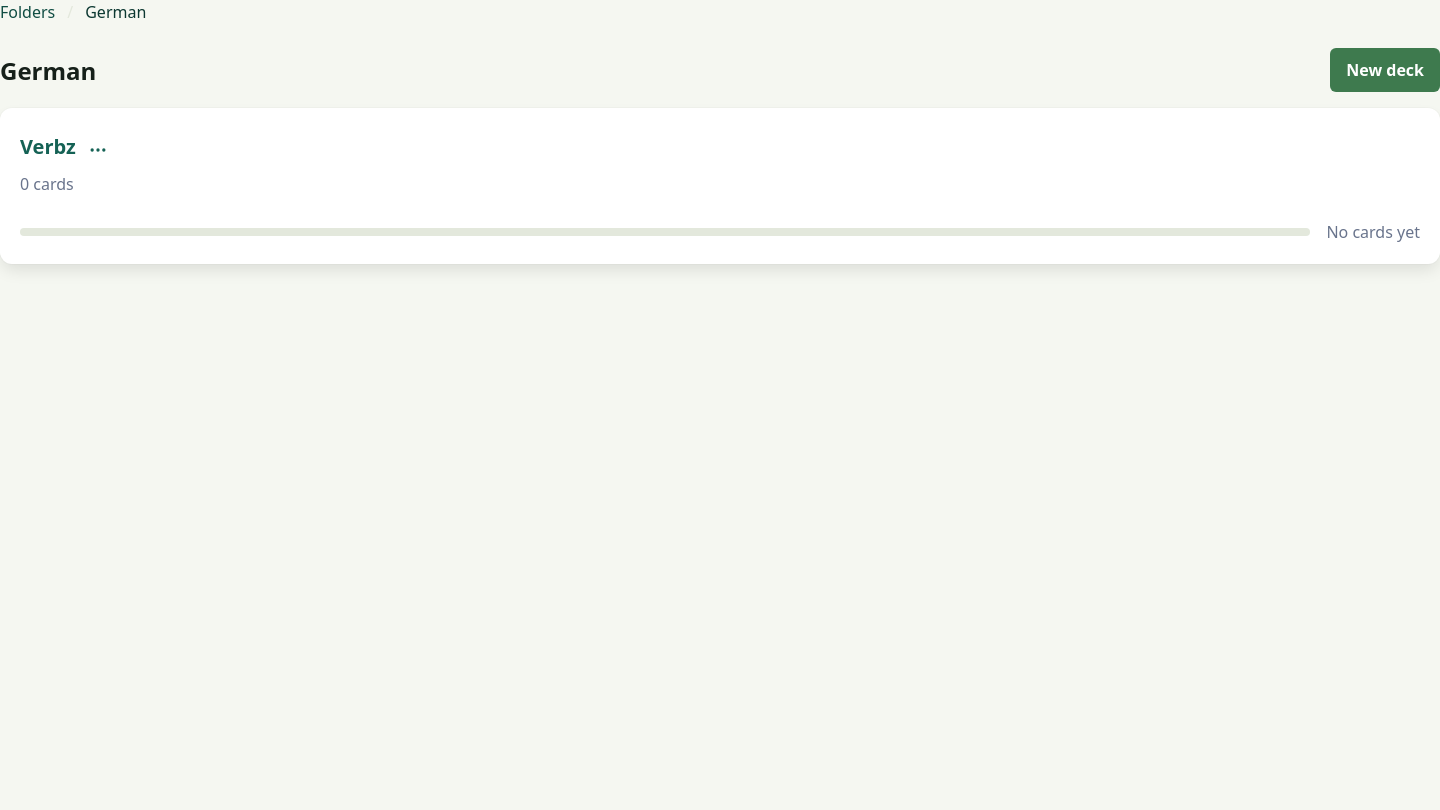
FolderView › renames a deck through the rename dialog
The width and height of the screenshot is (1440, 810).
Click the button with test id "deck-menu". click: (98, 150)
box: 76,128 -> 120,172
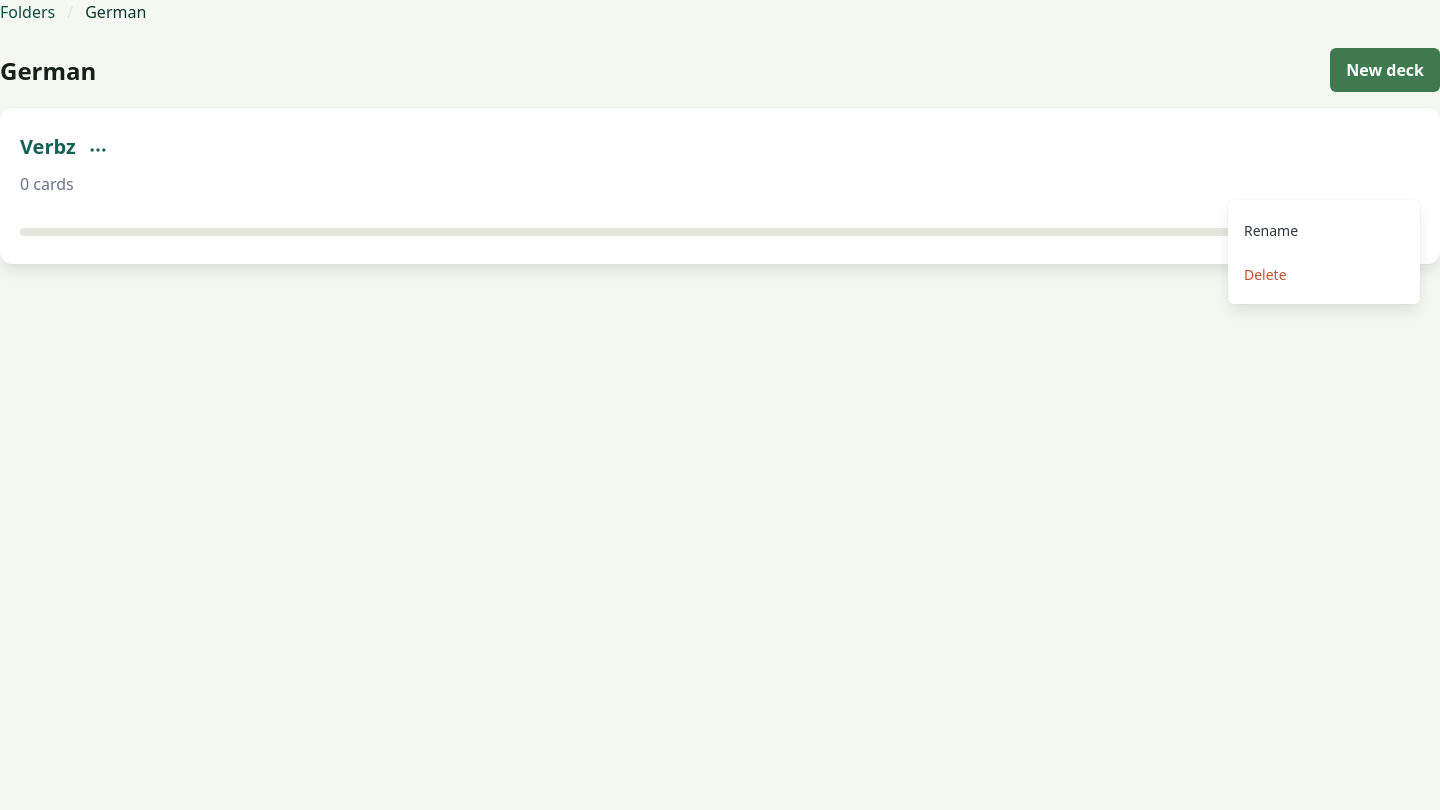
Click the button with test id "deck-rename". click: (1324, 230)
box: 1228,208 -> 1420,252
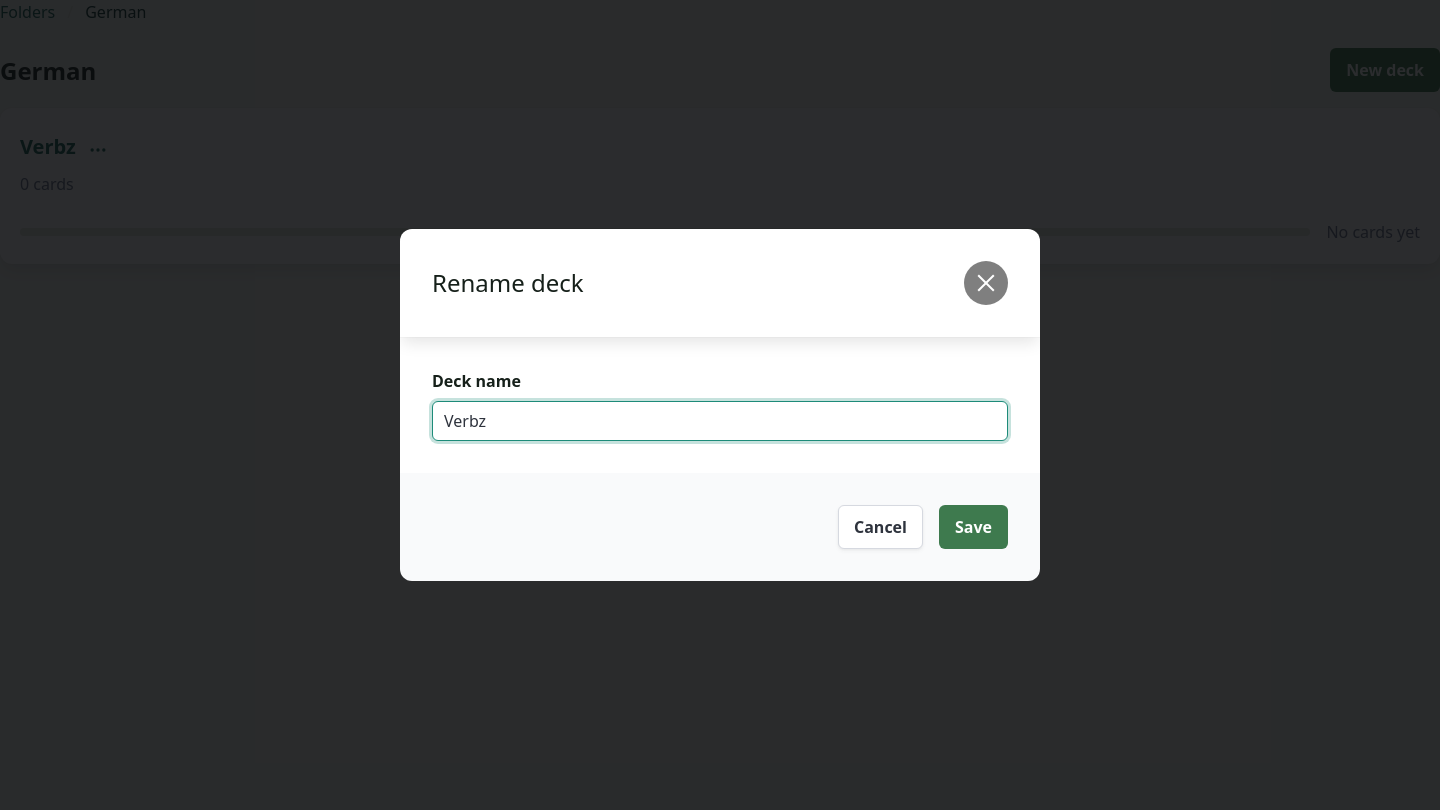
Replace the text in the field with test id "name-input" with "Verbs". click: (720, 421)
box: 432,401 -> 1008,441
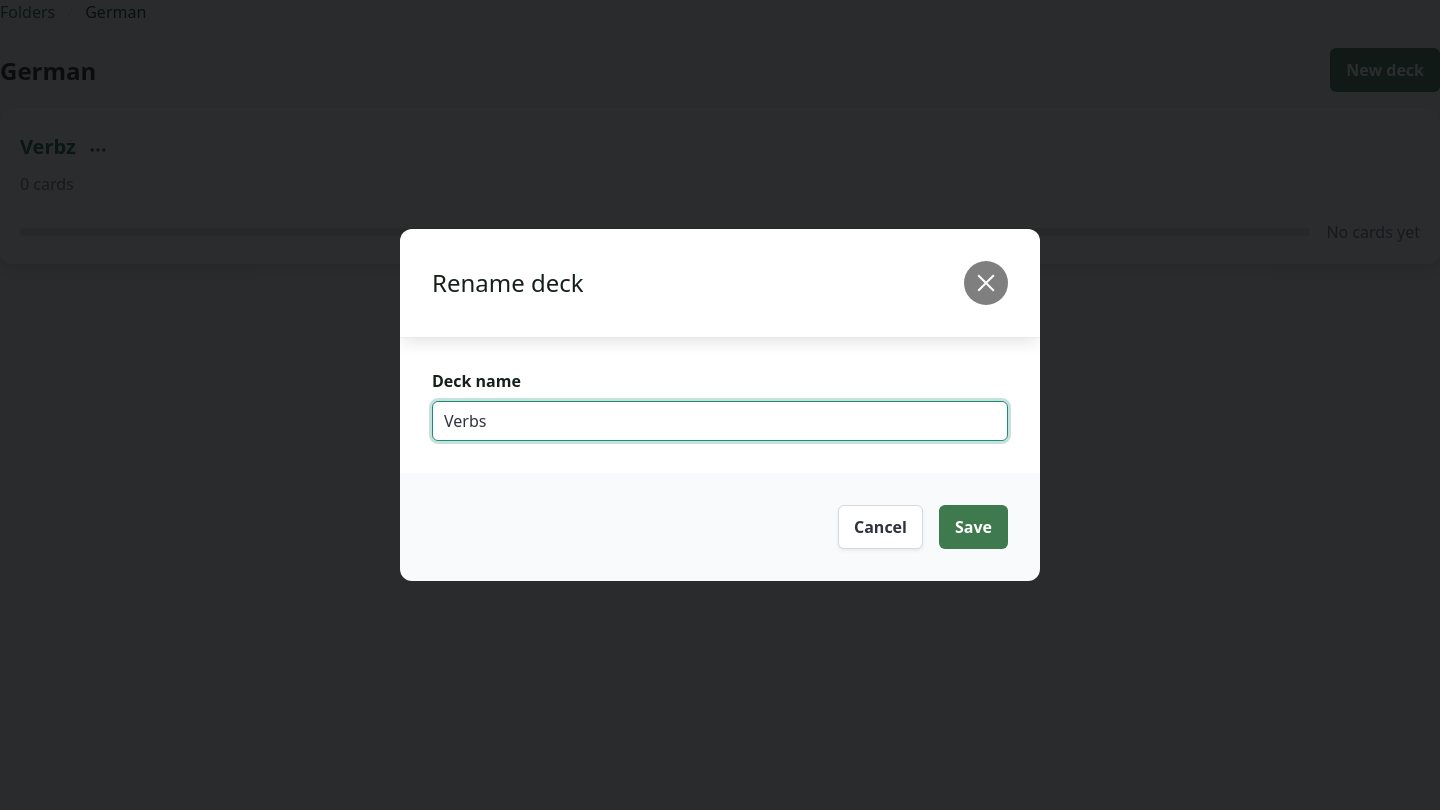
Click the button with test id "name-save". click: (974, 527)
box: 939,505 -> 1008,549
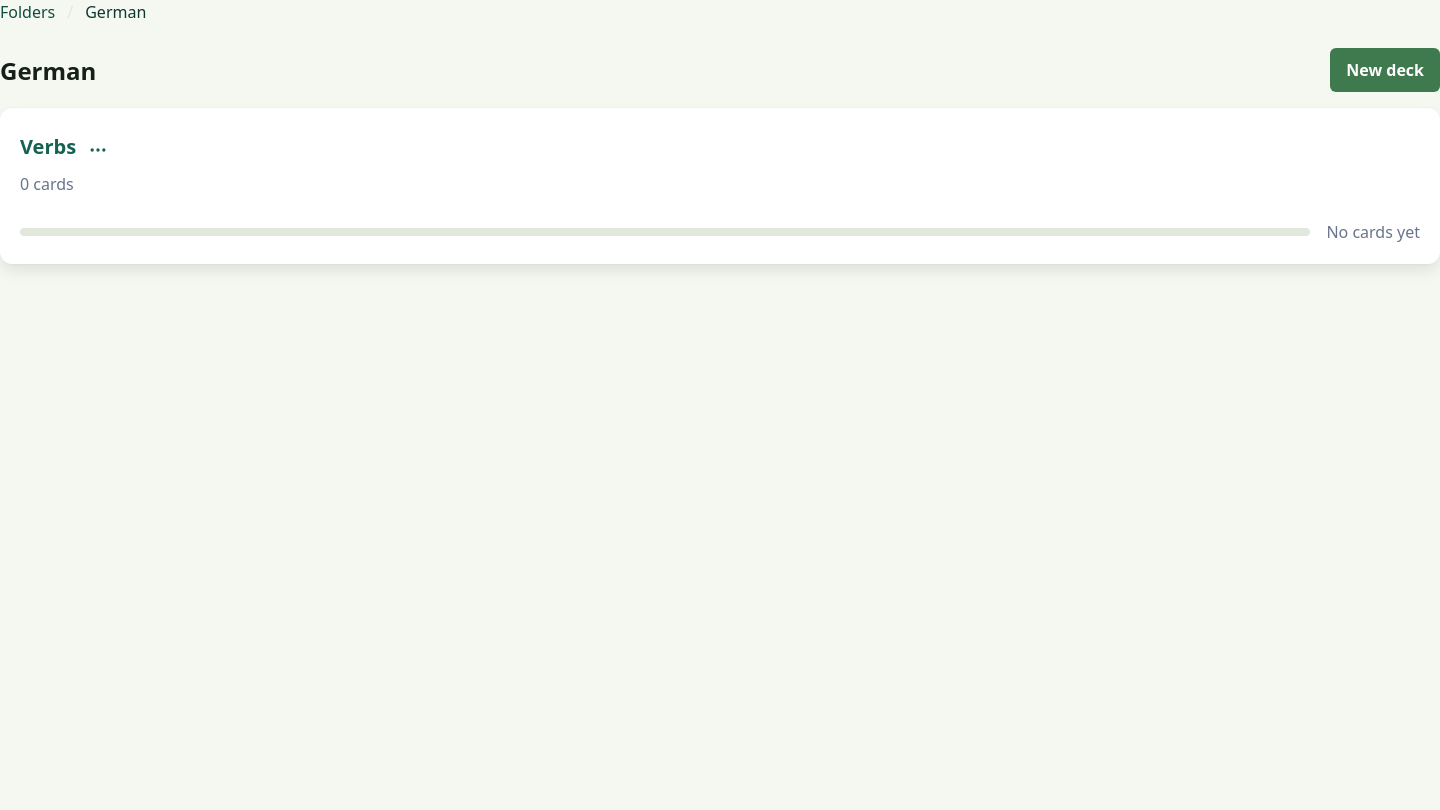
Check: the element with test id "deck-row" shows "Verbs", box 20,133 -> 76,160
